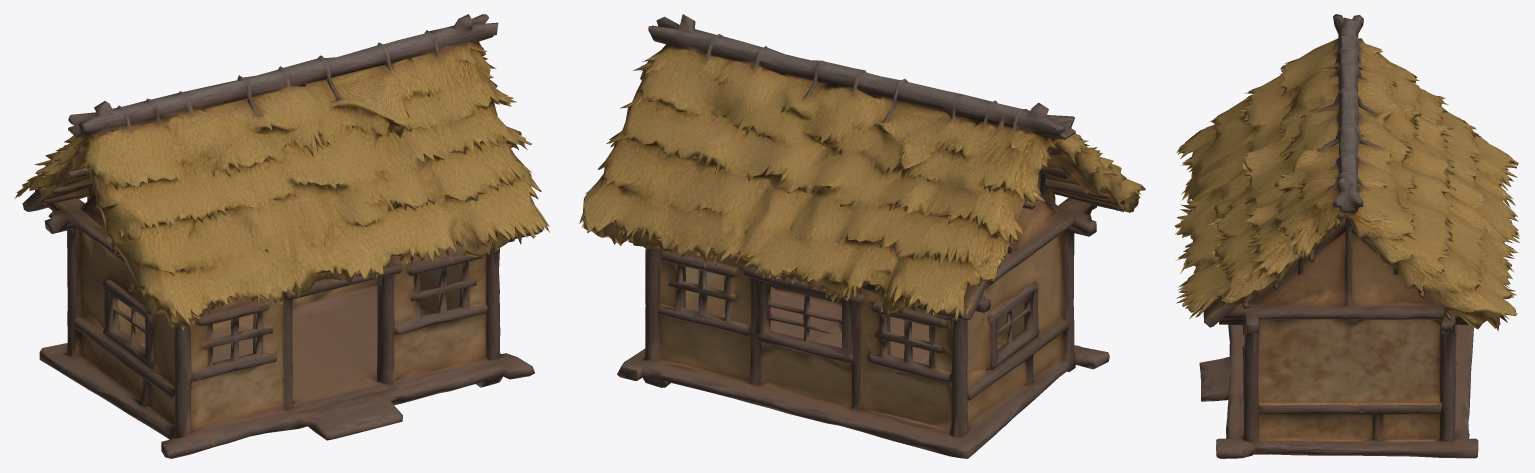
3 renders of one model, left to right at view 1: azimuth 30°, elevation 25°; view 2: azimuth 150°, elevation 25°; view 3: azimuth 270°, elevation 25°, orthographic. The views are drawn at different scales.
Parts seen in each view (by area): view 1: tripo_node_2e186652-a740-4cf9-97c6-b01ac8d524ce; view 2: tripo_node_2e186652-a740-4cf9-97c6-b01ac8d524ce; view 3: tripo_node_2e186652-a740-4cf9-97c6-b01ac8d524ce.
Boxes of the visible parts, x1,y1,x2,y2 form: tripo_node_2e186652-a740-4cf9-97c6-b01ac8d524ce: (14, 14, 549, 458); tripo_node_2e186652-a740-4cf9-97c6-b01ac8d524ce: (579, 14, 1145, 458); tripo_node_2e186652-a740-4cf9-97c6-b01ac8d524ce: (1174, 14, 1519, 458).
Bounding box in the file's own units: 1 × 0.7099 × 0.7656.
Materials: 1 (1 with a texture image).
